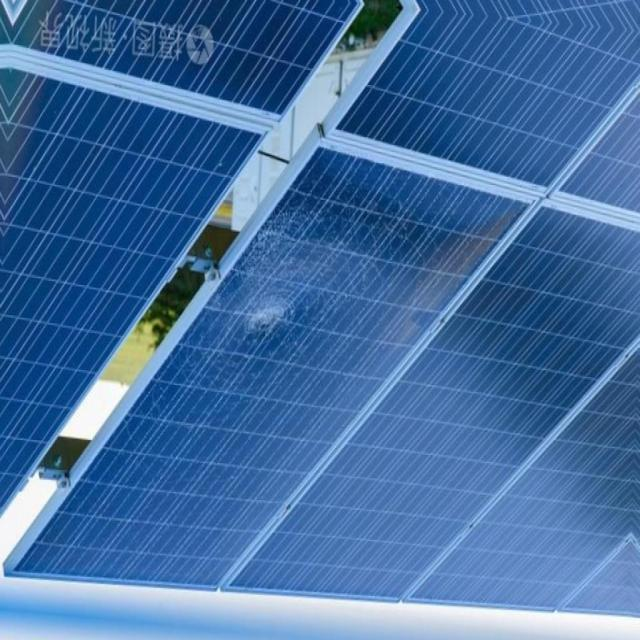cracked: (7, 147, 552, 588)
